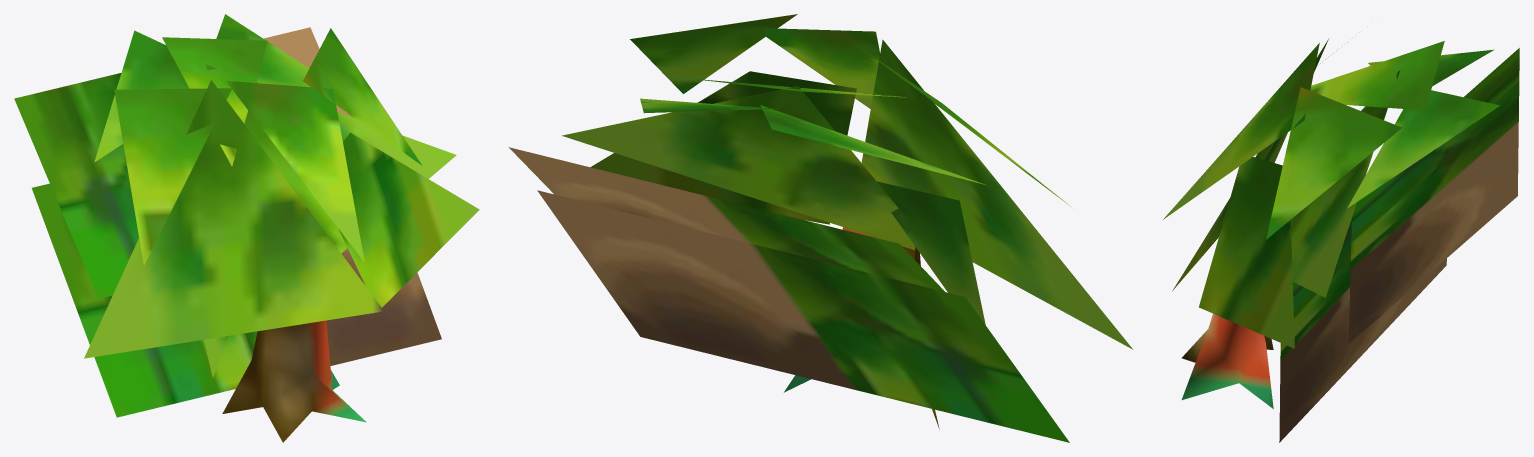
File: fg_bushB_1.dae
The picture shows the model from 3 angles, left to right: view 1: azimuth 30°, elevation 25°; view 2: azimuth 150°, elevation 25°; view 3: azimuth 270°, elevation 25°; orthographic projection. The views are drawn at different scales.
Visible parts, largest first — view 1: fg_bushB_1; view 2: fg_bushB_1; view 3: fg_bushB_1.
Boxes of the visible parts, <box> form: fg_bushB_1: <box>14,14,479,442</box>; fg_bushB_1: <box>508,14,1132,442</box>; fg_bushB_1: <box>1163,39,1519,442</box>.
Size of the model in its own units: 34.76 by 25.18 by 25.46.
1 material, 1 textured.
